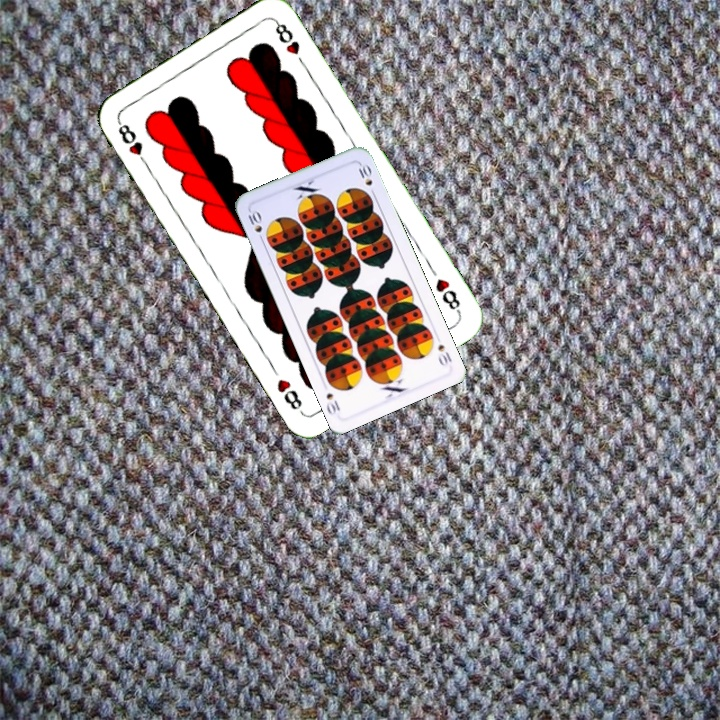H8: (113, 117, 151, 170), (431, 274, 463, 316)
S10: (244, 206, 267, 245), (434, 340, 454, 369)
